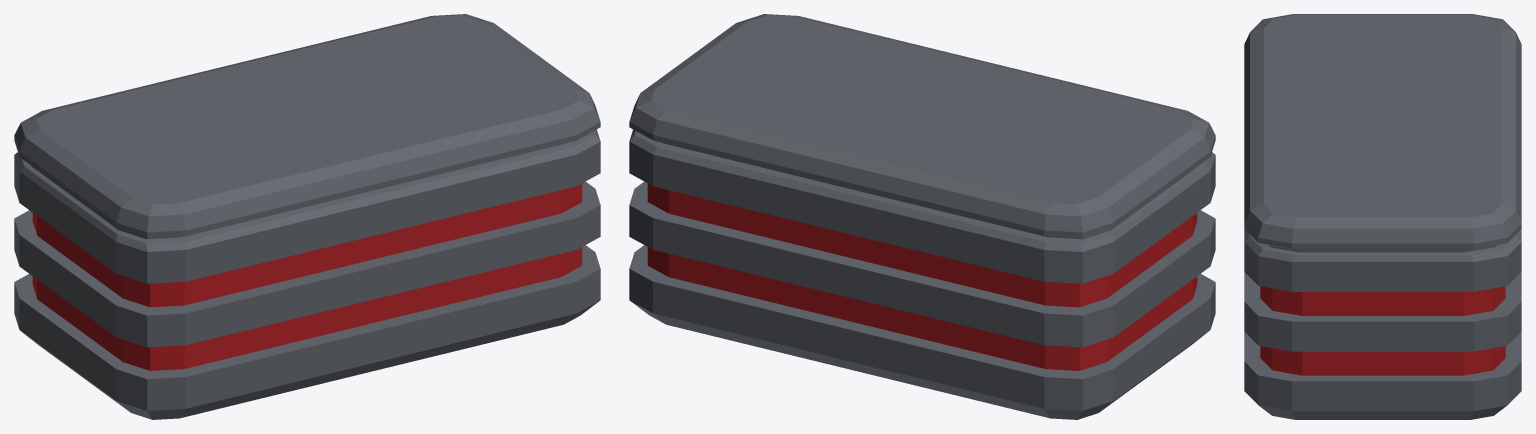
Rendered from SleepingPod.fbx.
The picture shows the model from 3 angles, left to right: view 1: azimuth 30°, elevation 25°; view 2: azimuth 150°, elevation 25°; view 3: azimuth 270°, elevation 25°; orthographic projection. The views are drawn at different scales.
Parts seen in each view (by area): view 1: SleepingPod; view 2: SleepingPod; view 3: SleepingPod.
Boxes of the visible parts, x1,y1,x2,y2 form: SleepingPod: [14, 14, 600, 419]; SleepingPod: [629, 14, 1215, 419]; SleepingPod: [1244, 14, 1521, 419].
Bounding box in the file's own units: 527 × 226 × 282.
